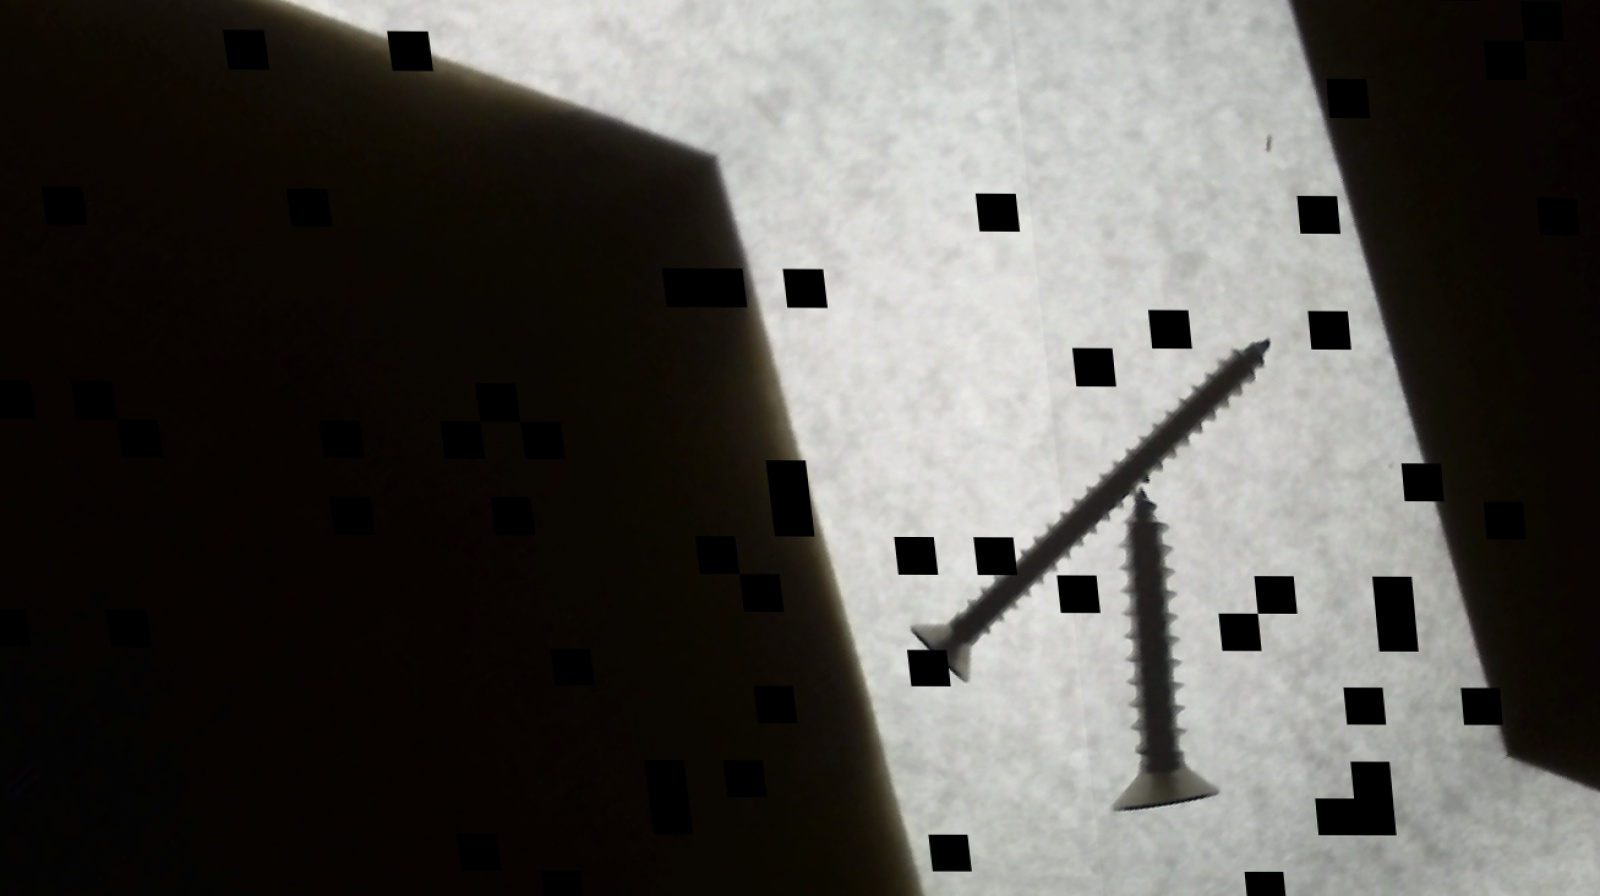S001: (952, 482, 1341, 858)
S002: (890, 309, 1322, 700)
